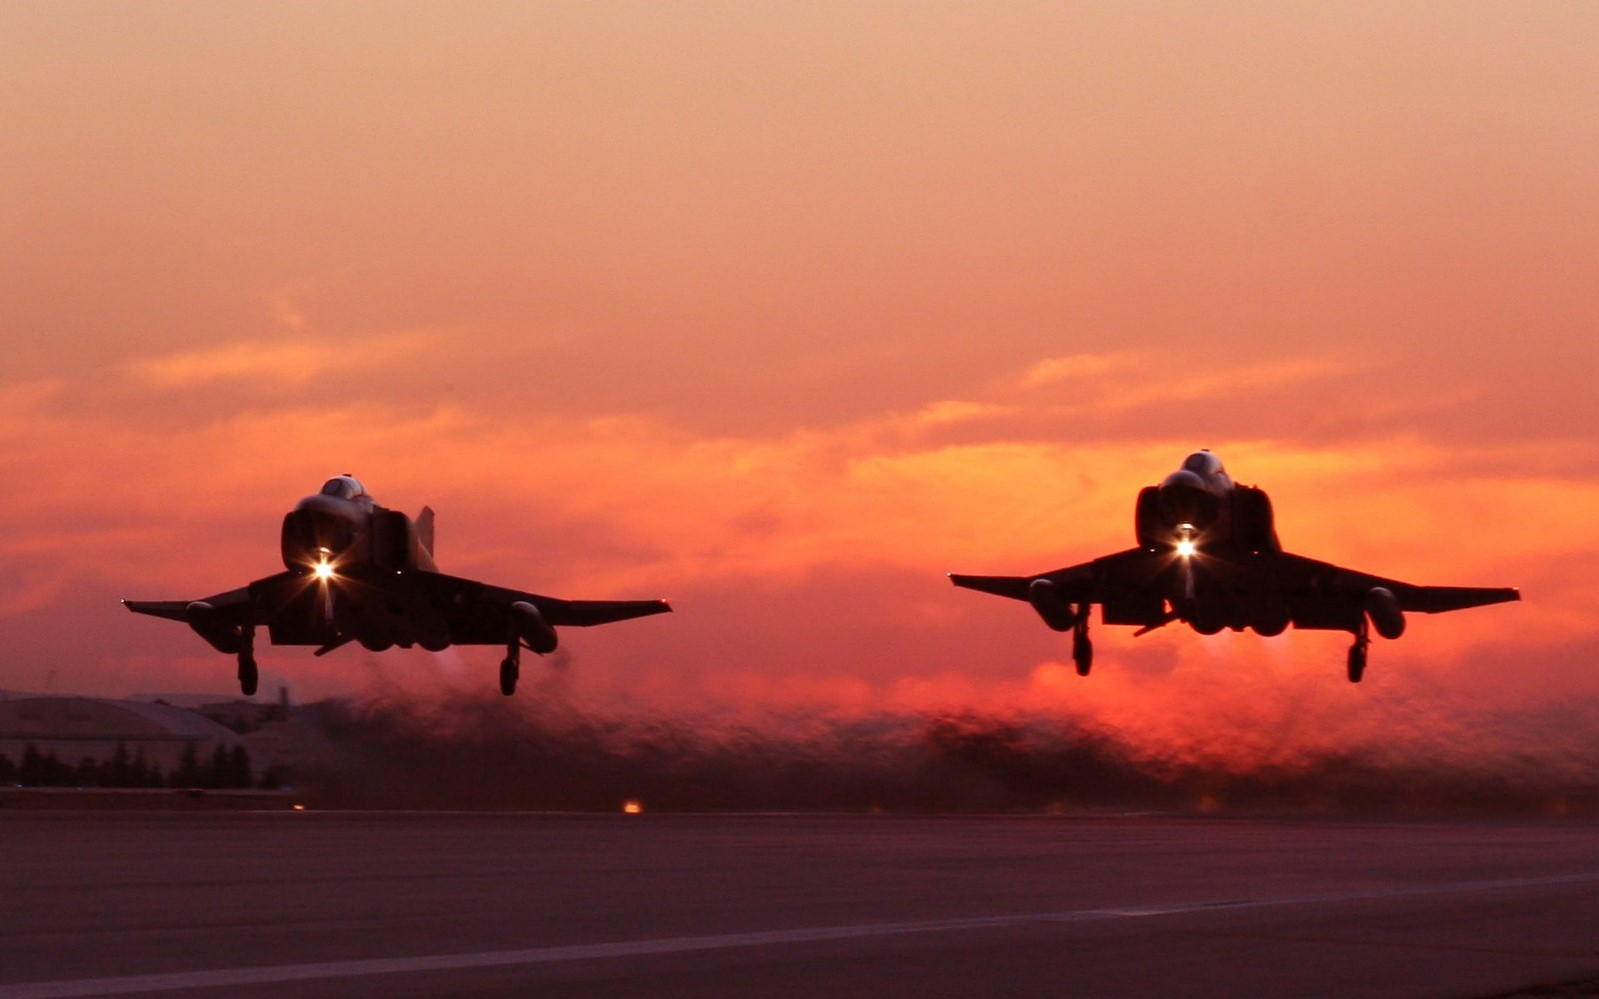F4: (944, 449, 1527, 685), (118, 471, 678, 696)
